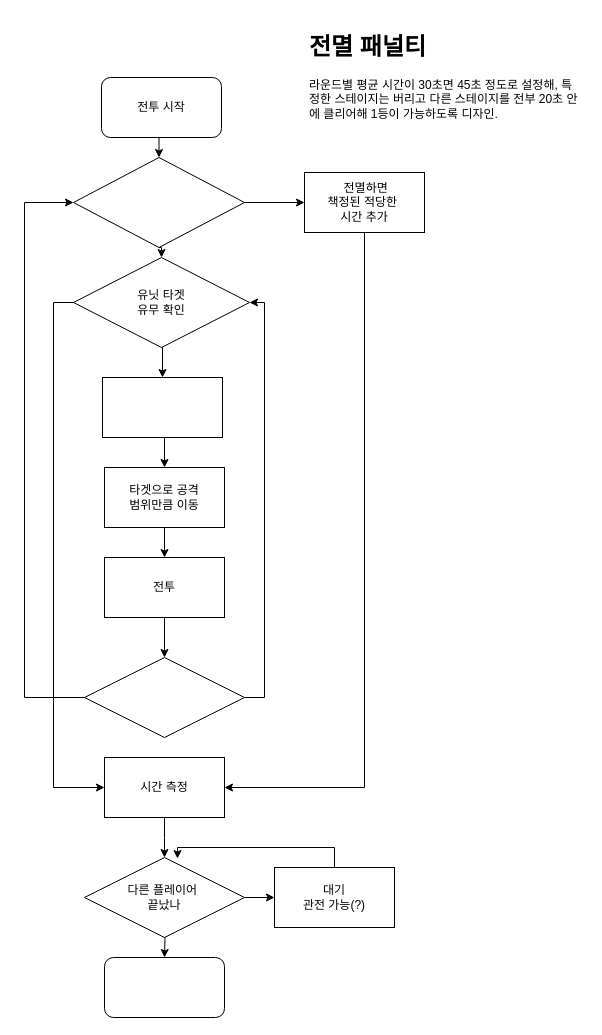
Some shapes in this 602 by 1035 pixel diagram are drawn without their labels. The shapes that lost their labels are listed below. From the top down, each one's box as (x1, y1, x2, y2) in pixels, then its label:
(72, 156, 244, 248): 유닛 유무
(102, 376, 222, 438): 제일 가까운 타겟 계산 및 설정
(84, 656, 244, 738): die or kill
(104, 956, 224, 1018): 경매 씬 이동
